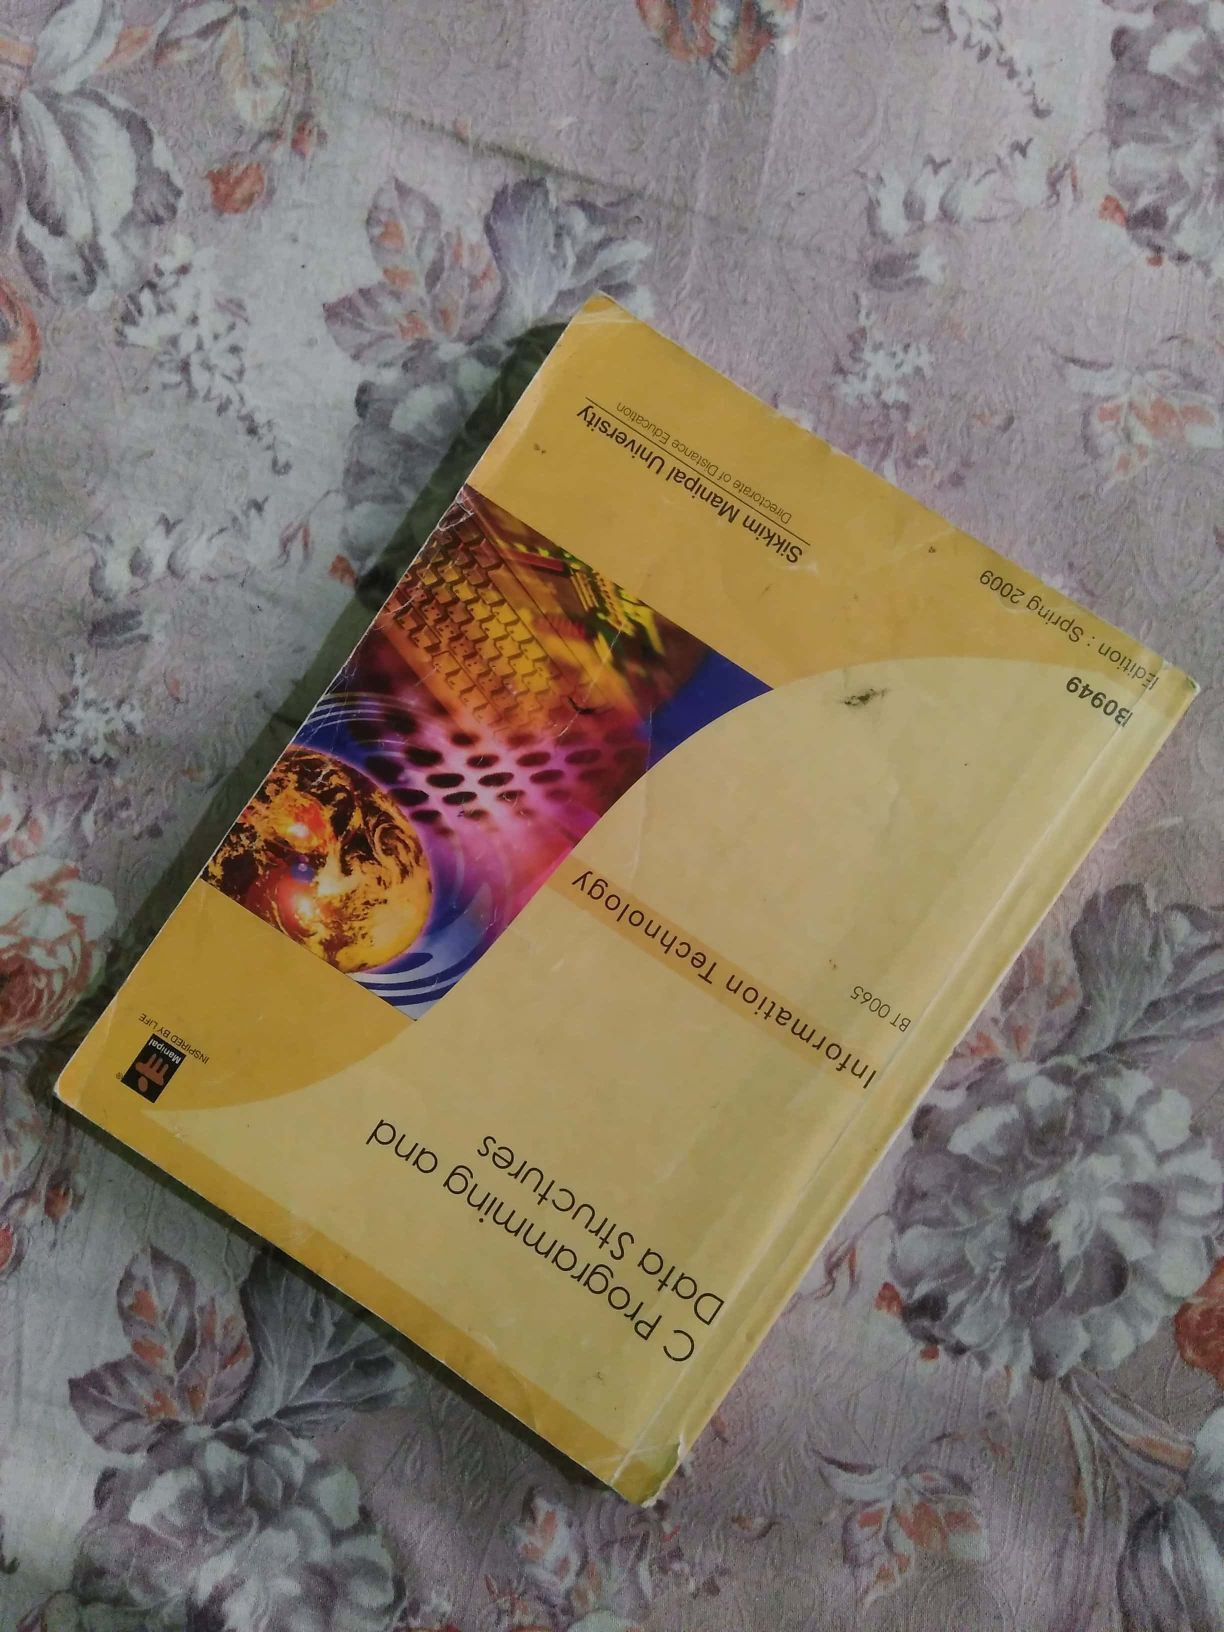clang: (96, 302, 1107, 1424)
